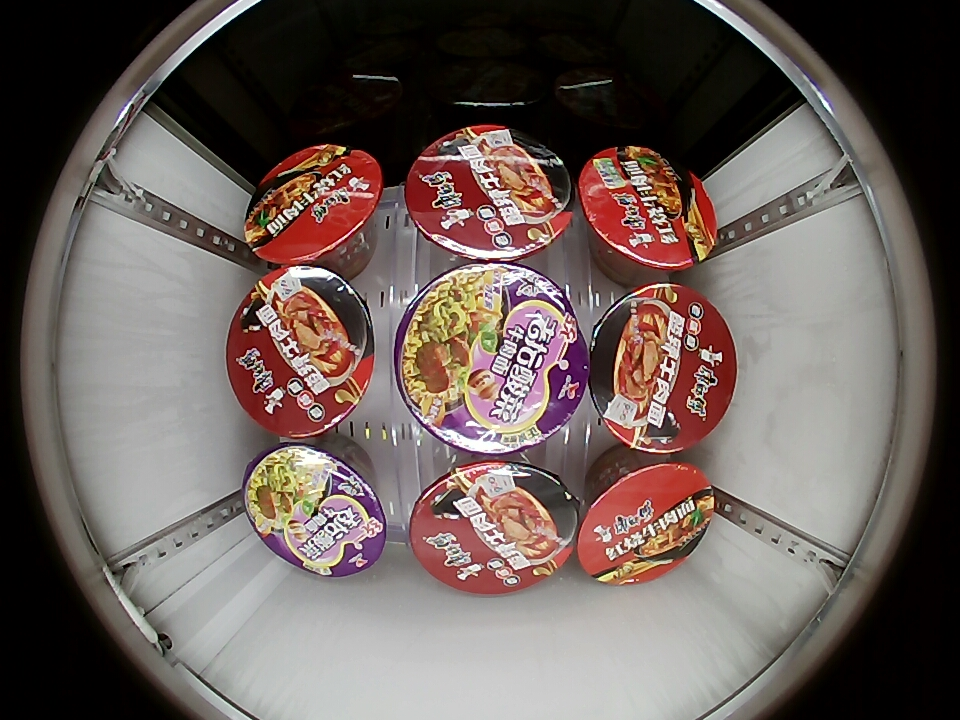hongshaoniurou: (577, 145, 718, 272), (577, 458, 715, 586), (243, 143, 383, 267)
laotansuancai: (394, 262, 590, 455), (242, 440, 388, 578)
suanlaniurou: (587, 284, 738, 453), (227, 267, 375, 438), (405, 124, 574, 262), (409, 458, 580, 593)
